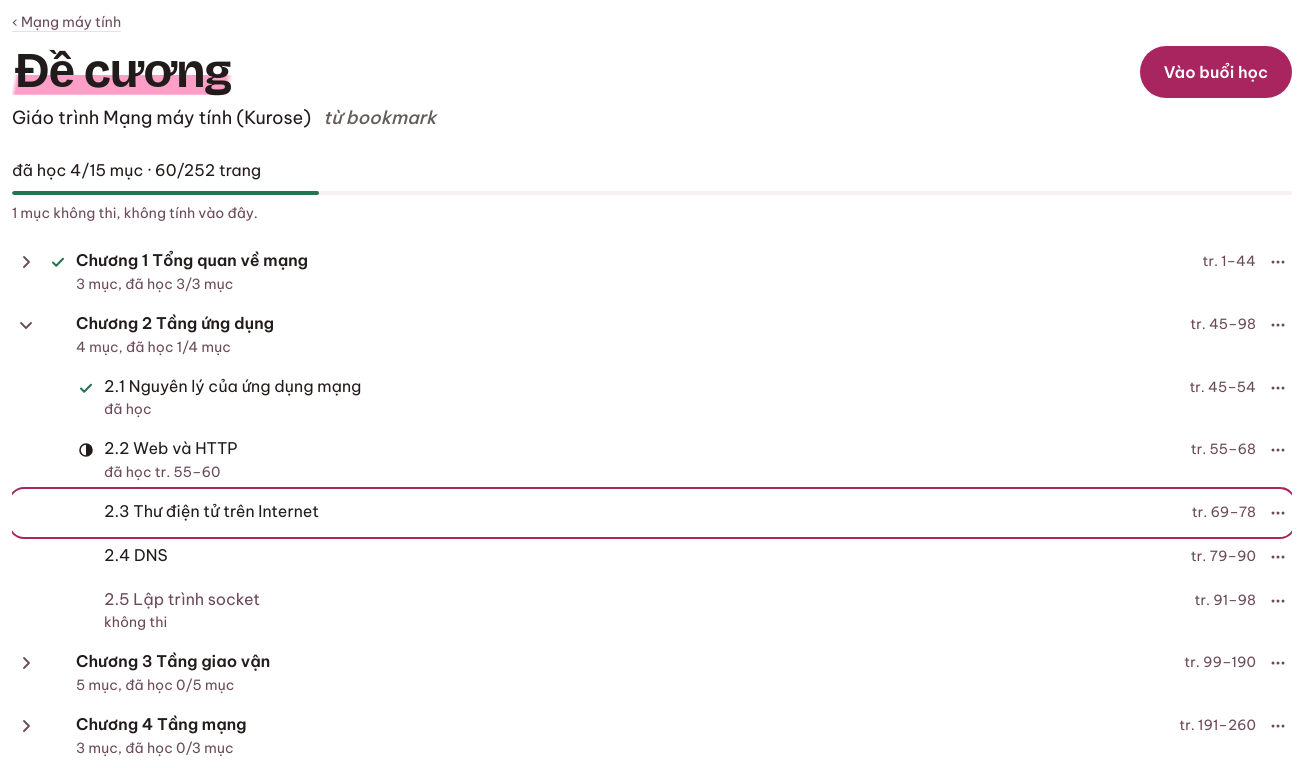
Test: panel actions (US-13 AC4, AC5, AC6) › Bỏ khỏi đề cương thi removes the leaf from the totals and flips to Đưa lại
Press Enter in the list item "2.3 Thư điện tử trên Internet tr. 69–78", box x1=12 y1=491 x2=1292 y2=535
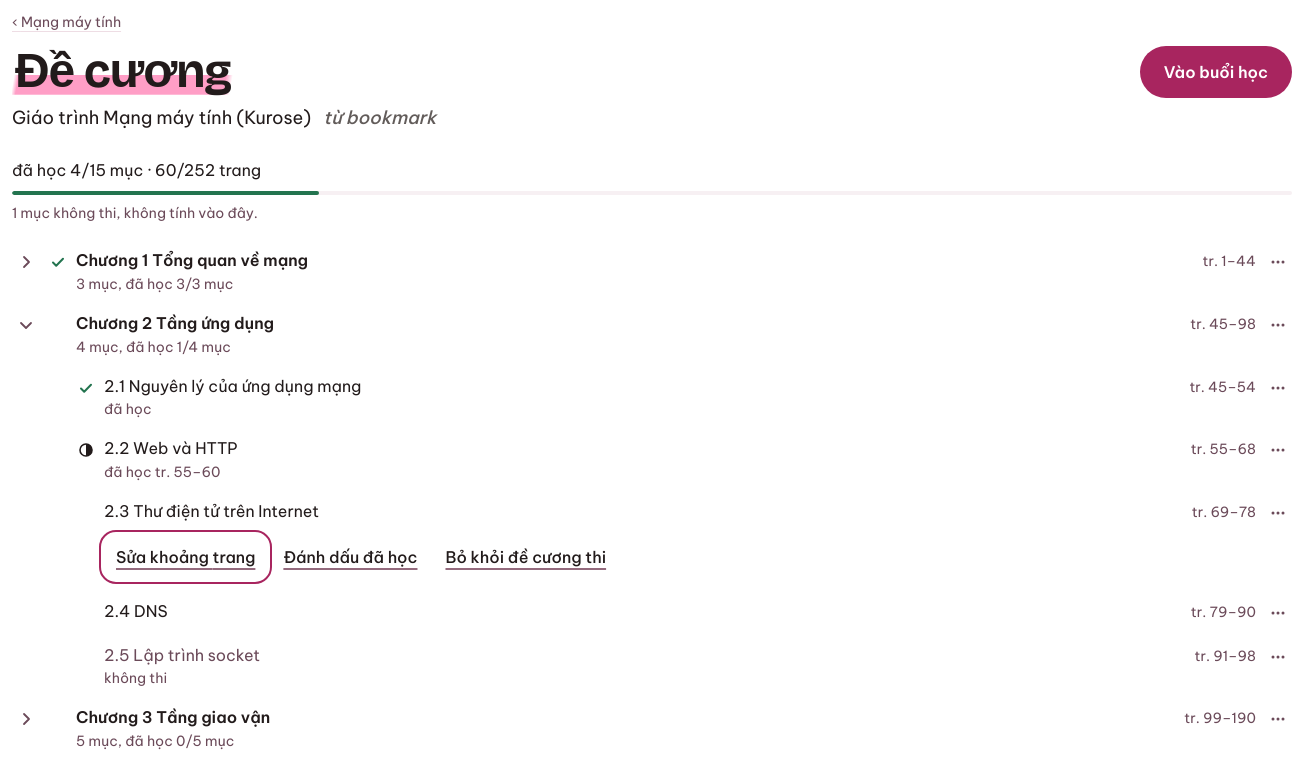
Click the button "Bỏ khỏi đề cương thi" at (526, 557), box x1=434 y1=535 x2=618 y2=579
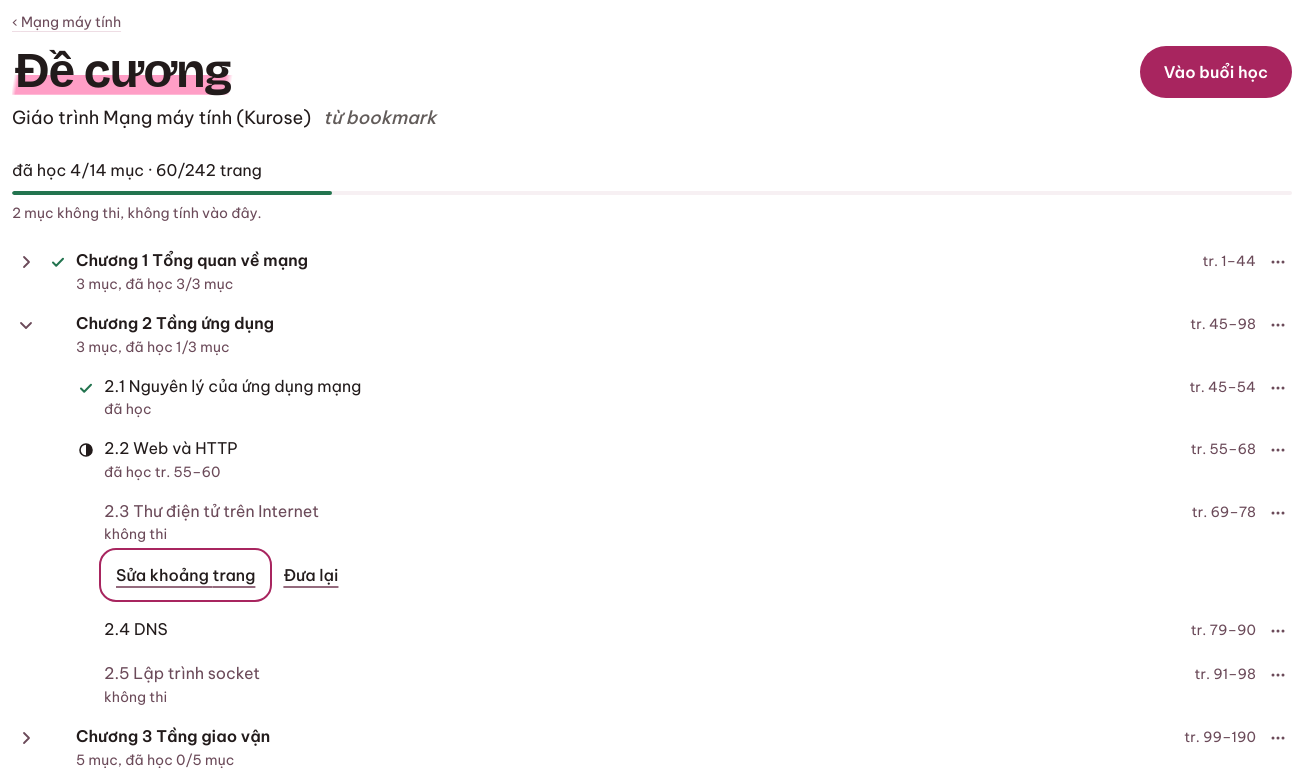
Result: the text "đã học 4/14 mục · 60/242 trang" is shown at x1=12 y1=160 x2=262 y2=180
Result: the button "Đưa lại" is shown at x1=271 y1=553 x2=350 y2=597
